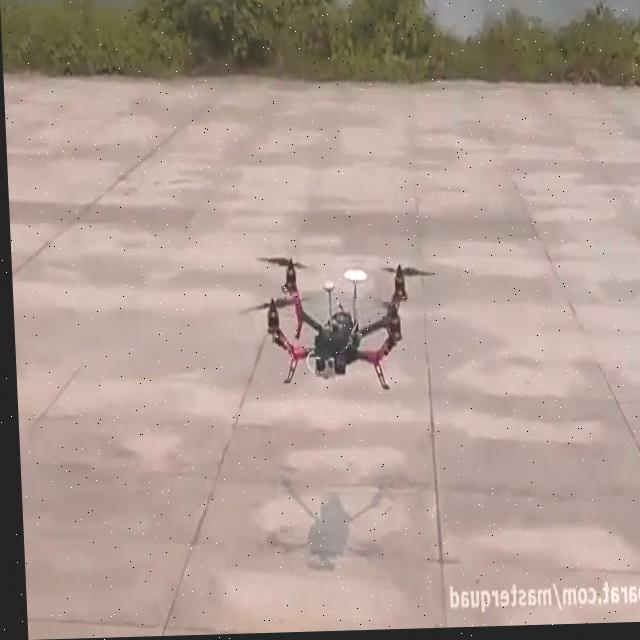drone: (235, 246, 444, 399)
